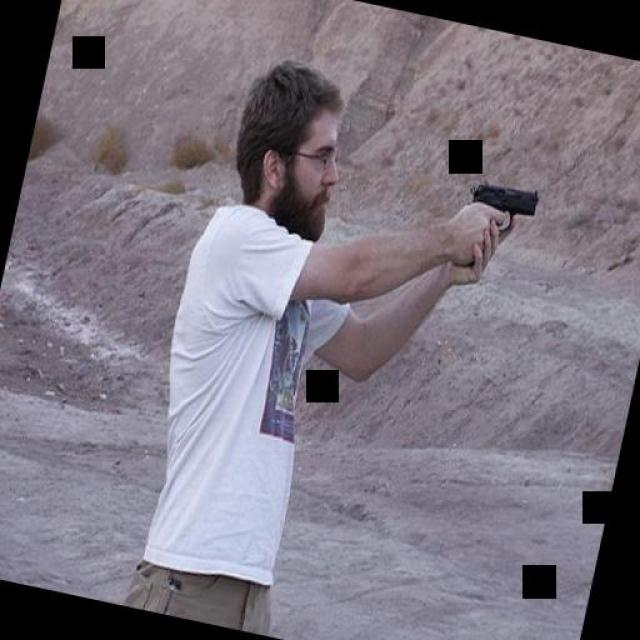gun: (459, 174, 539, 238)
